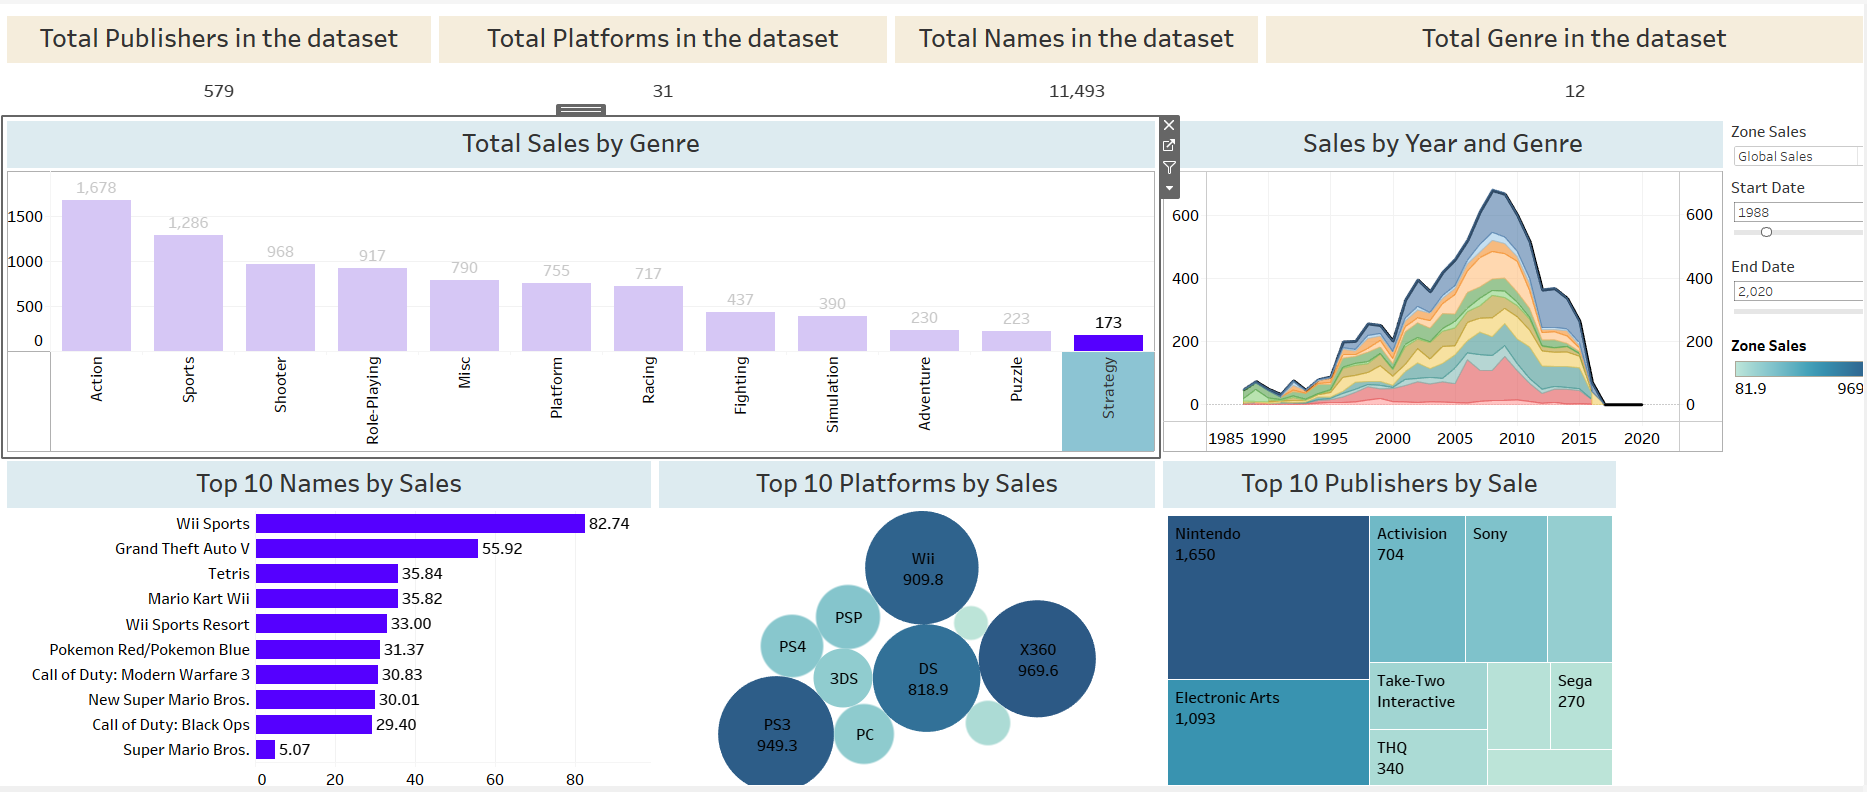

Layout of this report page (visuals, bound fields, positions):
{"tool":"tableau","page":{"name":"Dashboard 1","canvas":[1900,1000],"ordinal":0},"visuals":[{"type":"worksheet","title":"Total Publishers in the dataset","mark":"Automatic","box":[8,8,431.9,132]},{"type":"worksheet","title":"Total Platforms in the dataset","mark":"Automatic","box":[439.9,8,456.2,132]},{"type":"worksheet","title":"Total Names in the dataset","mark":"Automatic","box":[896.1,8,370.7,132]},{"type":"worksheet","title":"Total Genre in the dataset","mark":"Automatic","box":[1266.8,8,625.2,132]},{"type":"worksheet","title":"Total Sales by Genre","mark":"Automatic","rows":["Calculation_1449314677244731392"],"cols":["Genre"],"box":[8,140,1156,426]},{"type":"worksheet","title":"Sales by Year and Genre","mark":"Automatic","rows":["Calculation_1449314677244731392","Calculation_1449314677244731392"],"cols":["Year"],"box":[1164,140,568,412]},{"type":"parameter","param":"[Parameters].[Parameter 1]","box":[1732,140,160,56]},{"type":"parameter","param":"[Parameters].[Parameter 2]","box":[1732,196,160,79]},{"type":"parameter","param":"[Parameters].[Parameter 3]","box":[1732,275,160,79]},{"type":"legend","title":"Top 10 Platform by Sales","param":"[federated.1lhiuoi03v9oab16sxq350e85s4r].[sum:Calculation_1449314677244731392:qk","box":[1732,354,160,73]},{"type":"worksheet","title":"Top 10 Names by Sales","mark":"Automatic","rows":["Name"],"cols":["Calculation_1449314677244731392"],"box":[8,566,652,426]},{"type":"worksheet","title":"Top 10 Platform by Sales","mark":"Circle","box":[660,566,504,426]},{"type":"worksheet","title":"Top 10 Publishers by Sale","mark":"Automatic","box":[1164,566,568,426]}]}

Visuals, with their boxes on the page's 1900x1000 design canvas (x1, y1, x2, y2). These are canvas units, not pixel positions in the 1867x792 screenshot, which may show the page scaled, cropped or inside an application window:
"Total Publishers in the dataset" worksheet: detection(8, 8, 440, 140)
"Total Platforms in the dataset" worksheet: detection(440, 8, 896, 140)
"Total Names in the dataset" worksheet: detection(896, 8, 1267, 140)
"Total Genre in the dataset" worksheet: detection(1267, 8, 1892, 140)
"Total Sales by Genre" worksheet: detection(8, 140, 1164, 566)
"Sales by Year and Genre" worksheet: detection(1164, 140, 1732, 552)
parameter: detection(1732, 140, 1892, 196)
parameter: detection(1732, 196, 1892, 275)
parameter: detection(1732, 275, 1892, 354)
"Top 10 Platform by Sales" legend: detection(1732, 354, 1892, 427)
"Top 10 Names by Sales" worksheet: detection(8, 566, 660, 992)
"Top 10 Platform by Sales" worksheet (Circle marks): detection(660, 566, 1164, 992)
"Top 10 Publishers by Sale" worksheet: detection(1164, 566, 1732, 992)
